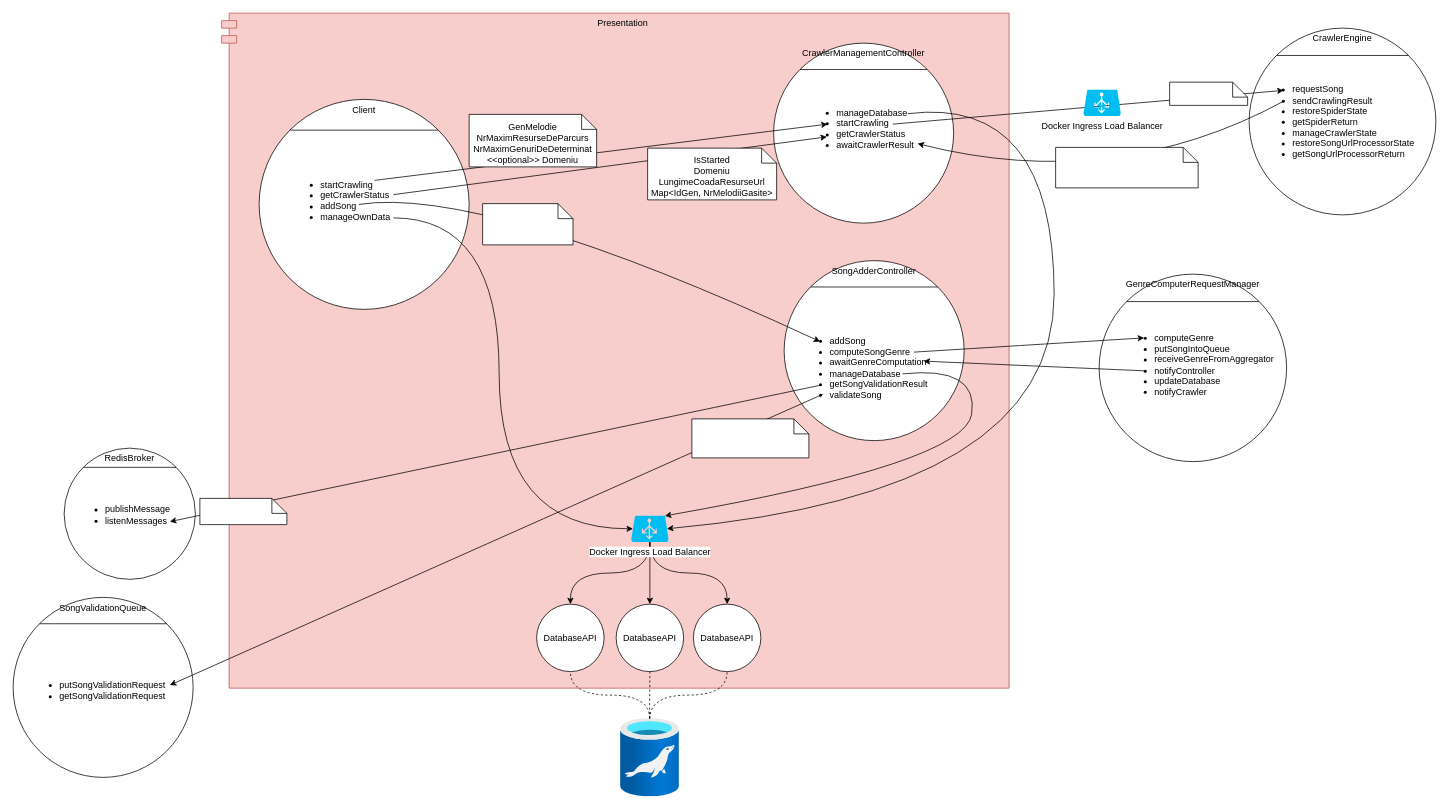
This 1449x810 diagram has some shape labels left out. The centre of each missing label's shape, as x and y in pixels:
"IdClient" goes at [1208,93].
"IdClient ConfirmareTerminareCrawling <<optional>> Octeti melodie" goes at [1126,167].
"NumeMelodie Autor OctetiMelodie" goes at [527,224].
"Song ID Rezultat" goes at [243,511].
"Sursa: Controller Identificator: Song ID Octeti melodie" goes at [750,438].
